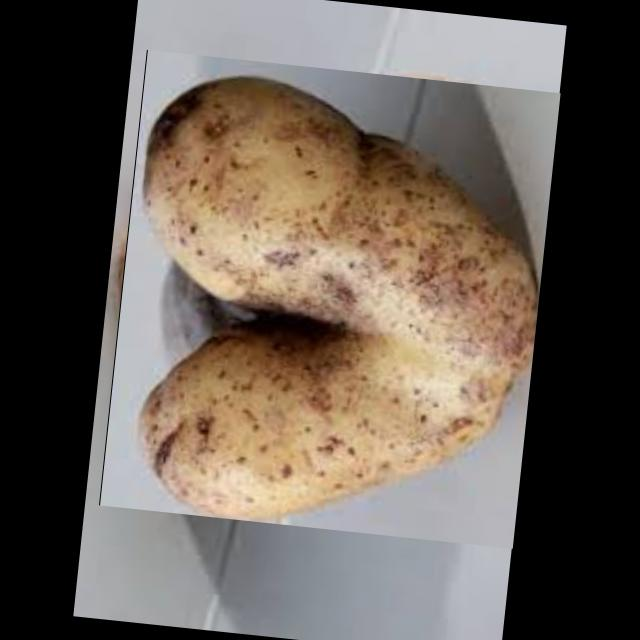Damaged potato: (99, 49, 560, 548)
